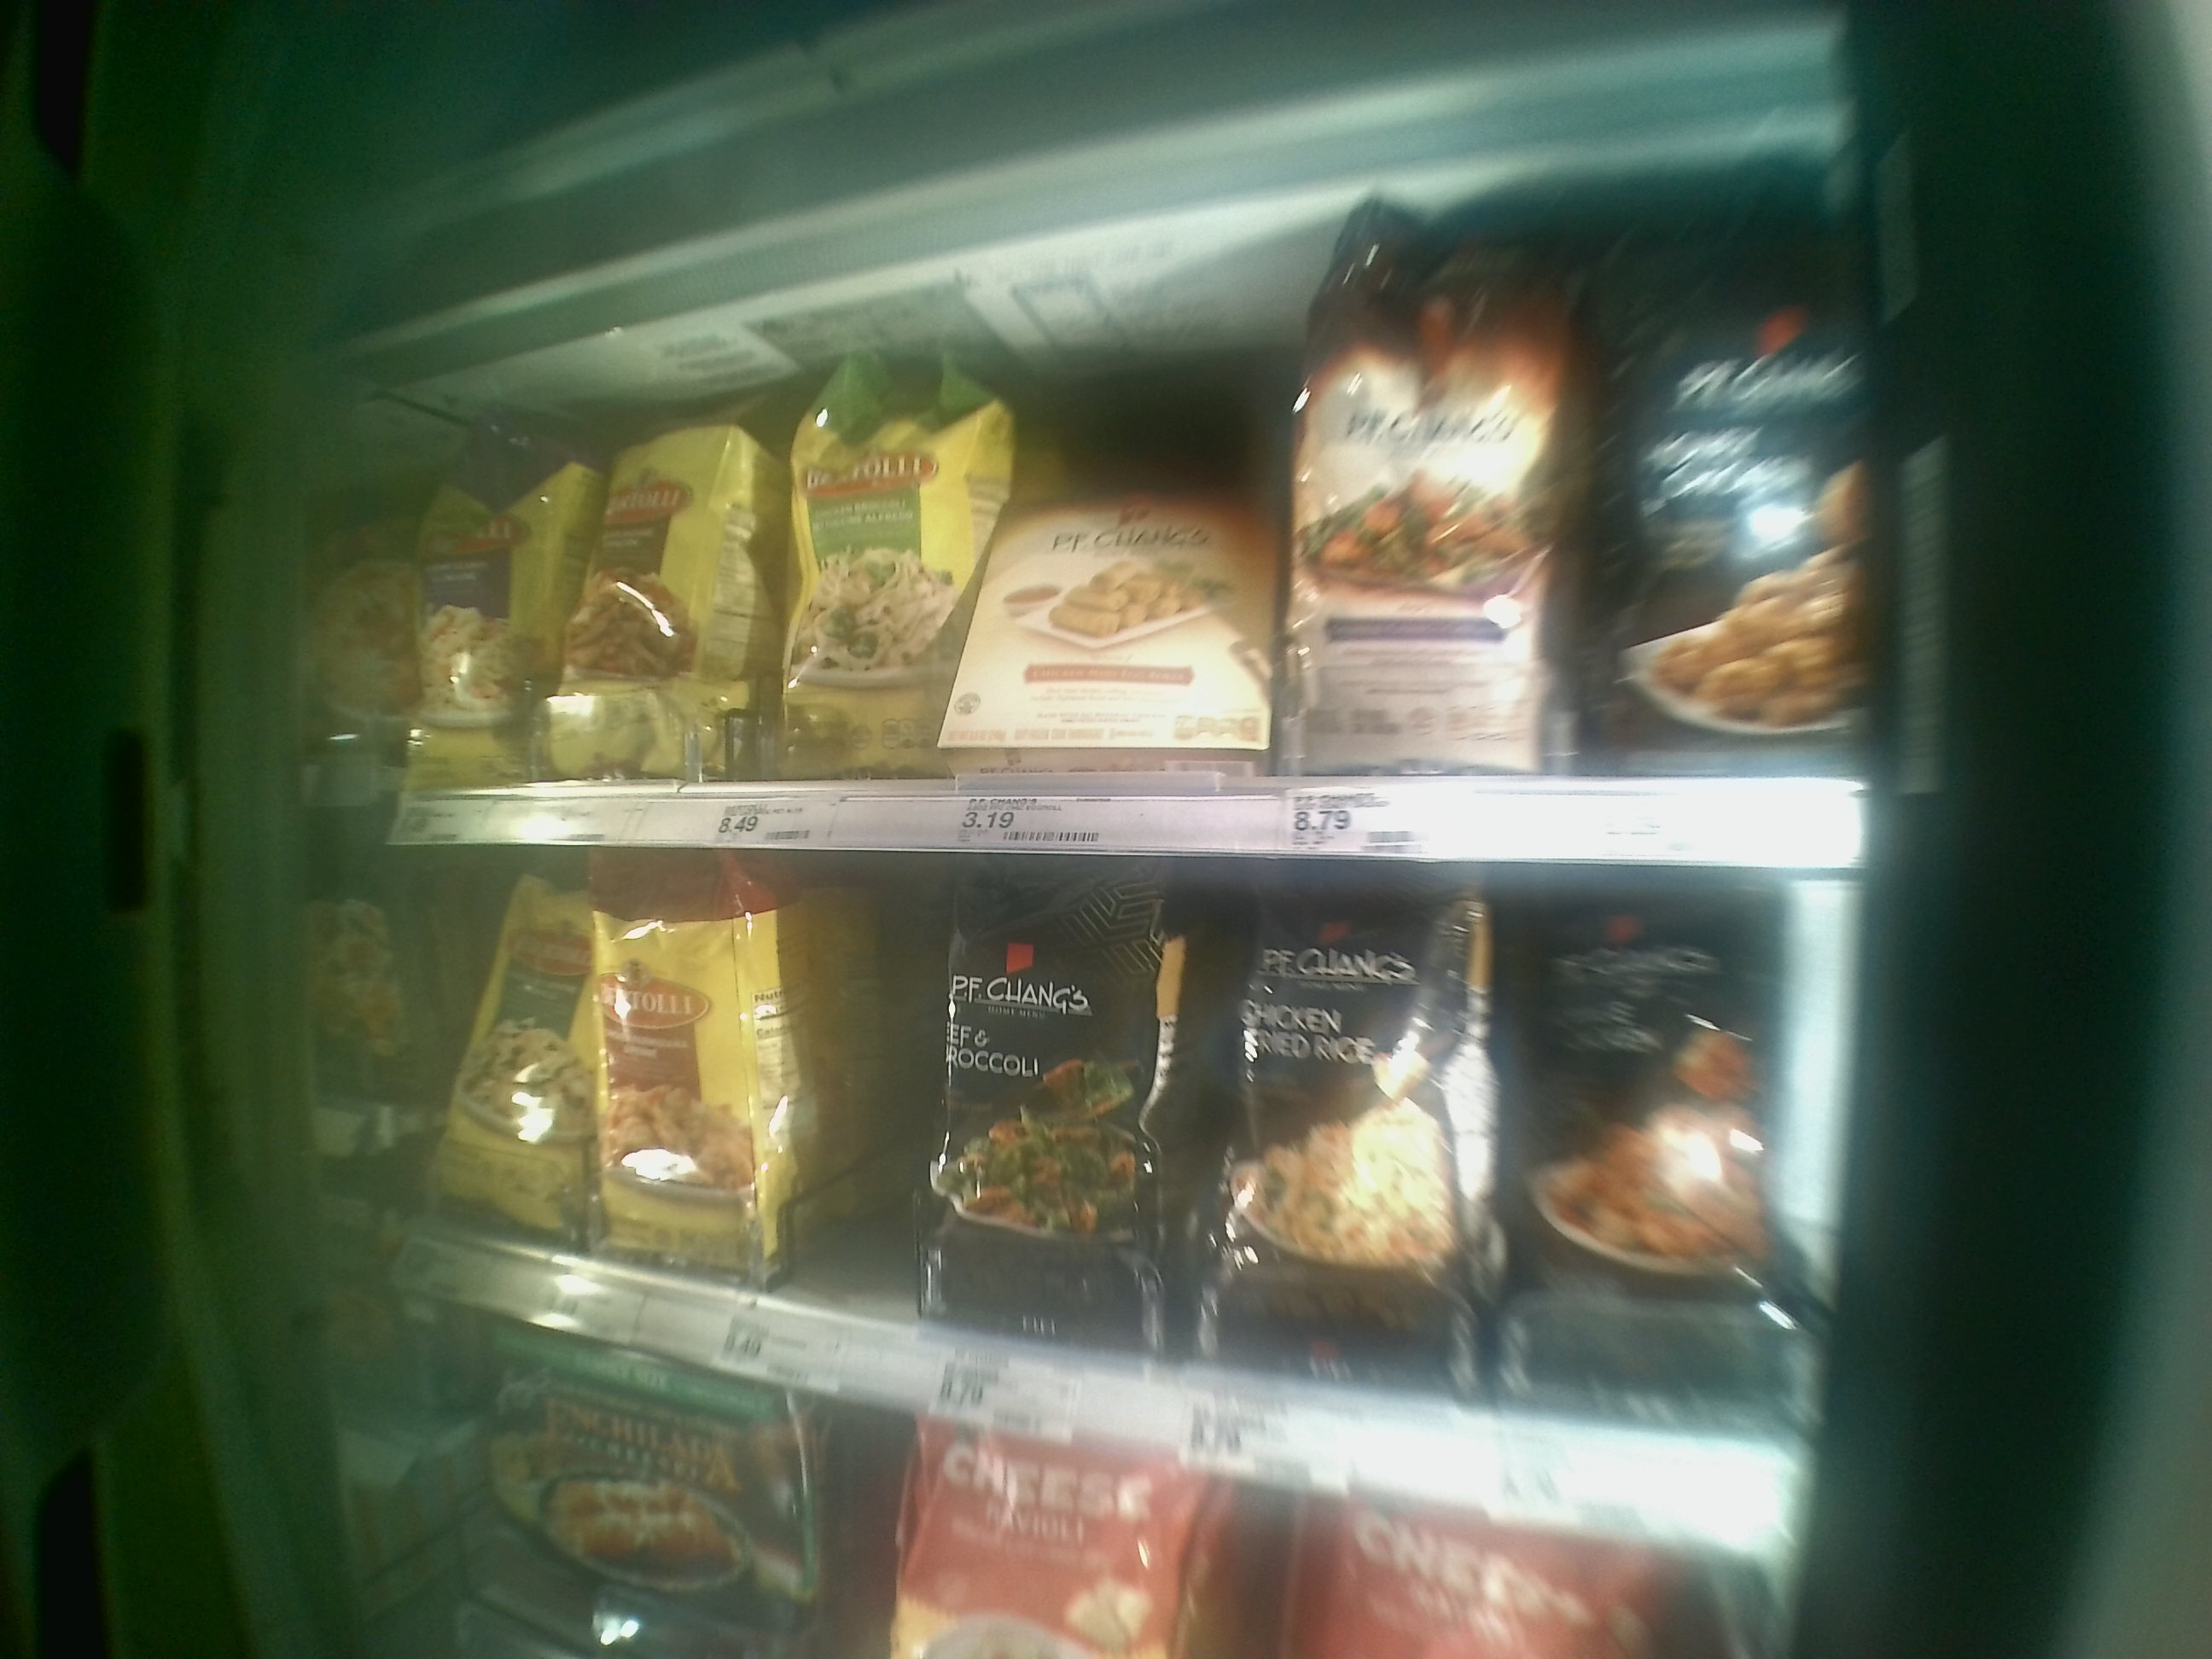shelf: (395, 842, 1855, 1556)
